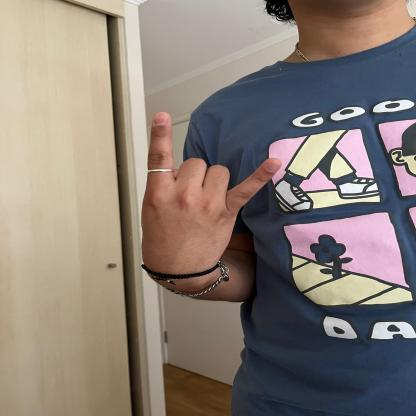U: (134, 109, 282, 267)
